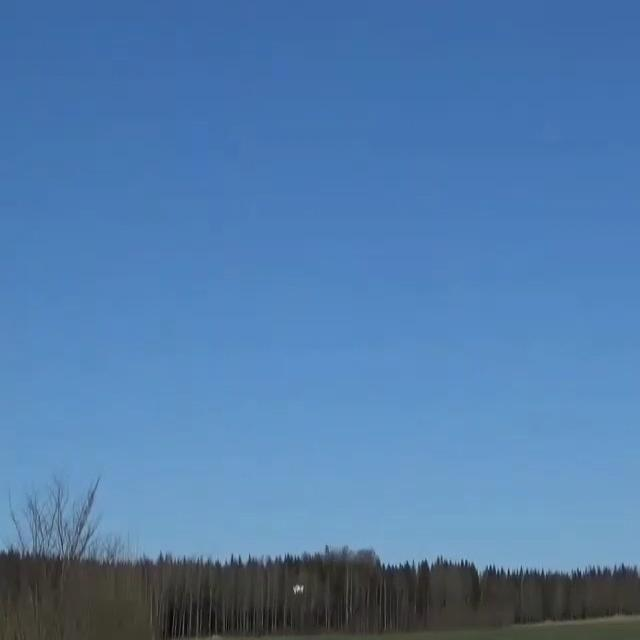drone: (293, 584, 304, 594)
